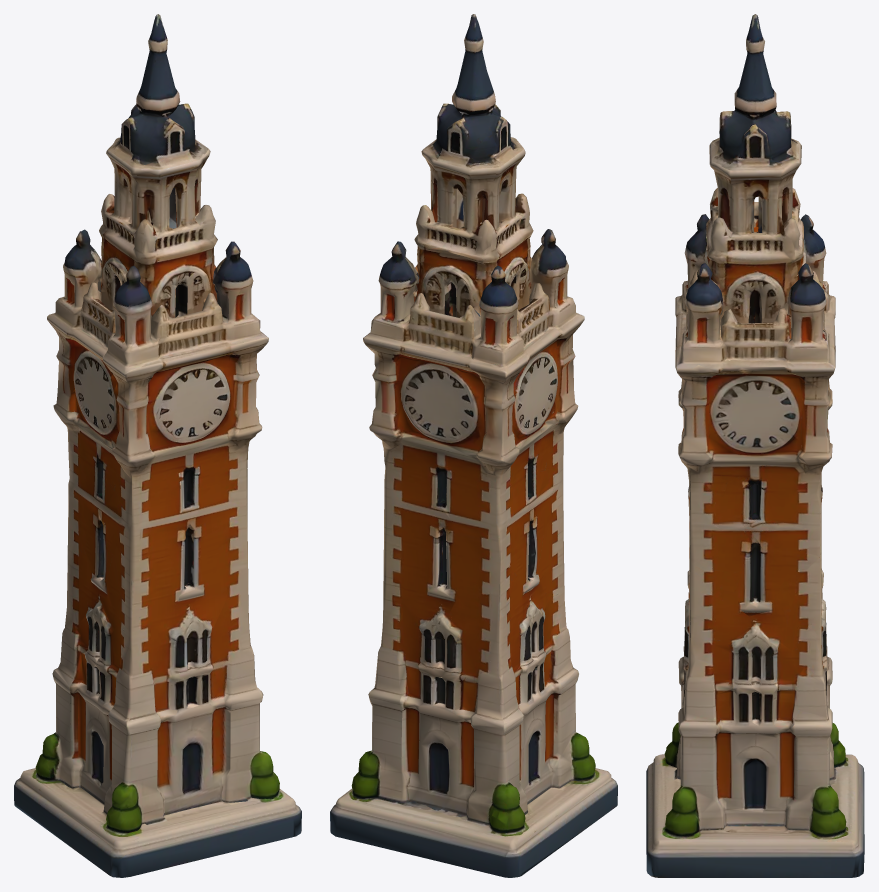
File: lille-belfry.glb
3 views of the same model, side by side, from view 1: azimuth 30°, elevation 25°; view 2: azimuth 150°, elevation 25°; view 3: azimuth 270°, elevation 25° (orthographic).
Visible parts, largest first — view 1: textured_mesh.obj; view 2: textured_mesh.obj; view 3: textured_mesh.obj.
Part boxes in pixels (left/top/right/bottom): textured_mesh.obj: left=14, top=14, right=301, bottom=877; textured_mesh.obj: left=330, top=14, right=617, bottom=877; textured_mesh.obj: left=646, top=14, right=864, bottom=877.
Size of the model in its own units: 0.2487 by 1 by 0.2417.
1 material, 1 textured.
